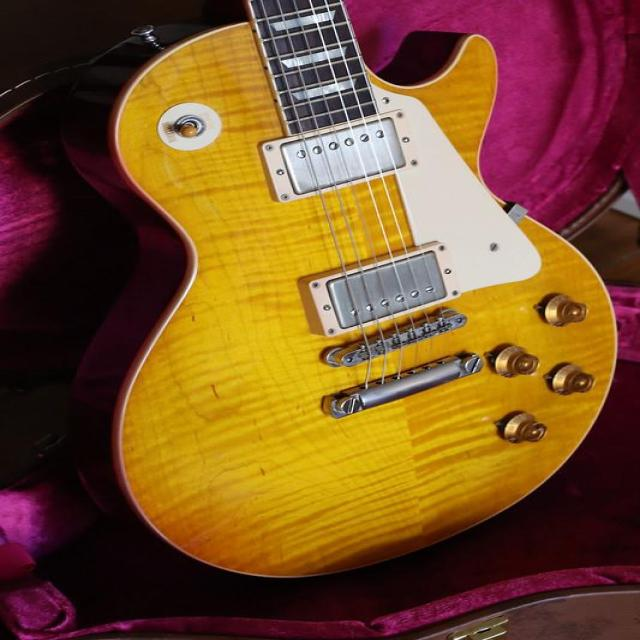guitar: (110, 0, 614, 575)
